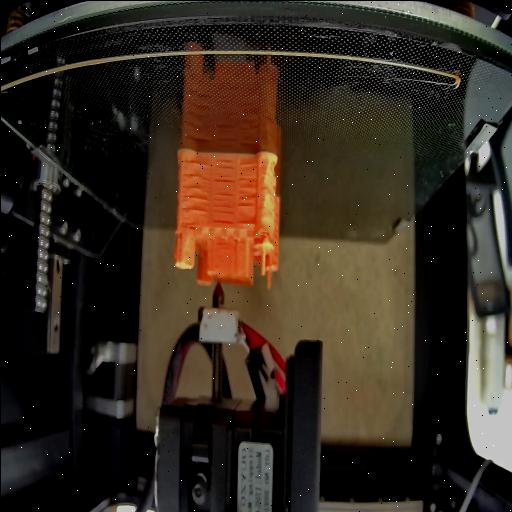cracks: (180, 159, 210, 215), (236, 160, 258, 208), (211, 188, 235, 226), (214, 156, 234, 182), (183, 218, 197, 236), (236, 216, 255, 226), (216, 241, 230, 251)
